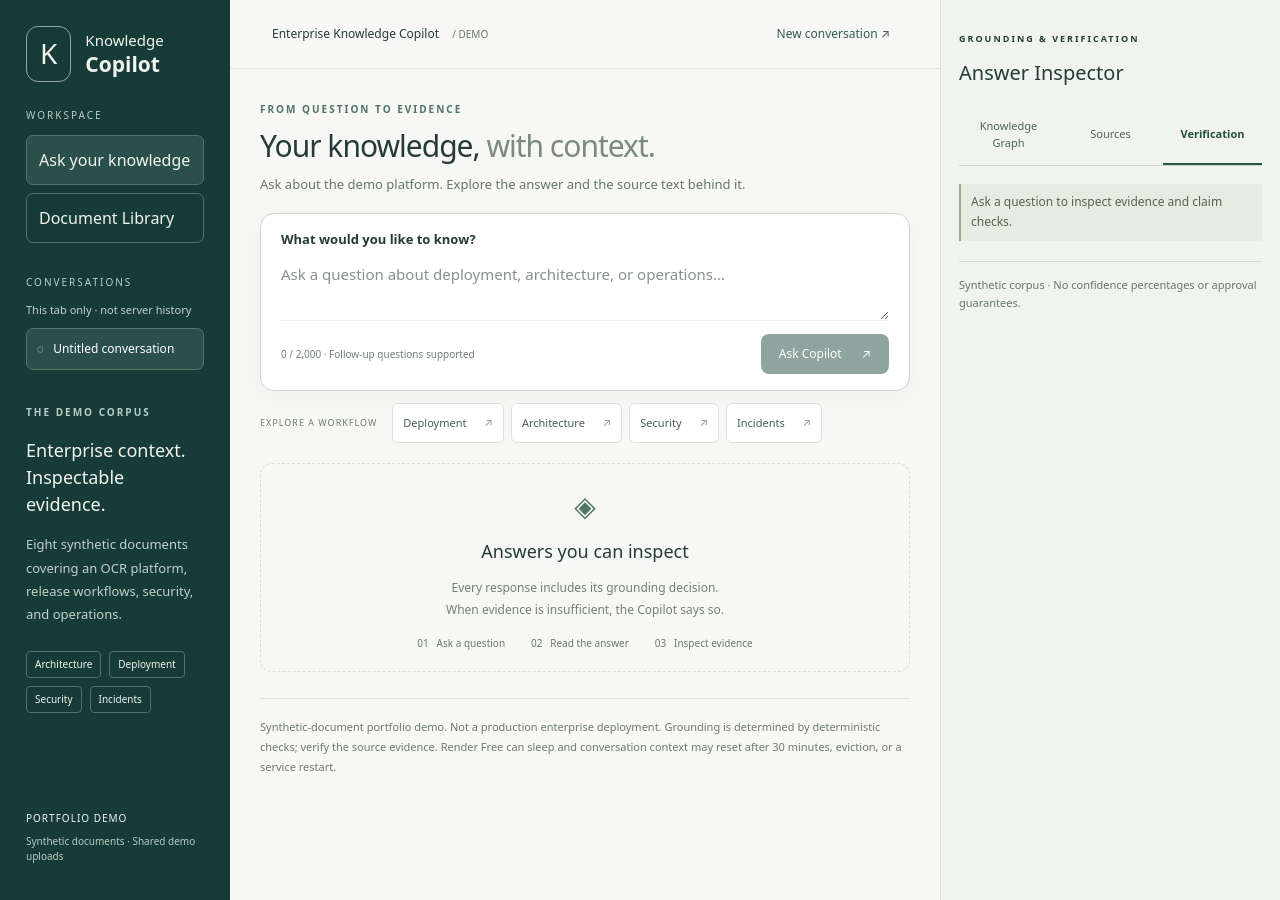
it: workspace › shows synthetic boundary and fills examples without inventing answers
Expected: the text "Synthetic-document portfolio demo" is shown, [260,719,902,774]
Click the button "Deployment ↗" at coordinates (448, 423), box [392,403,504,443]
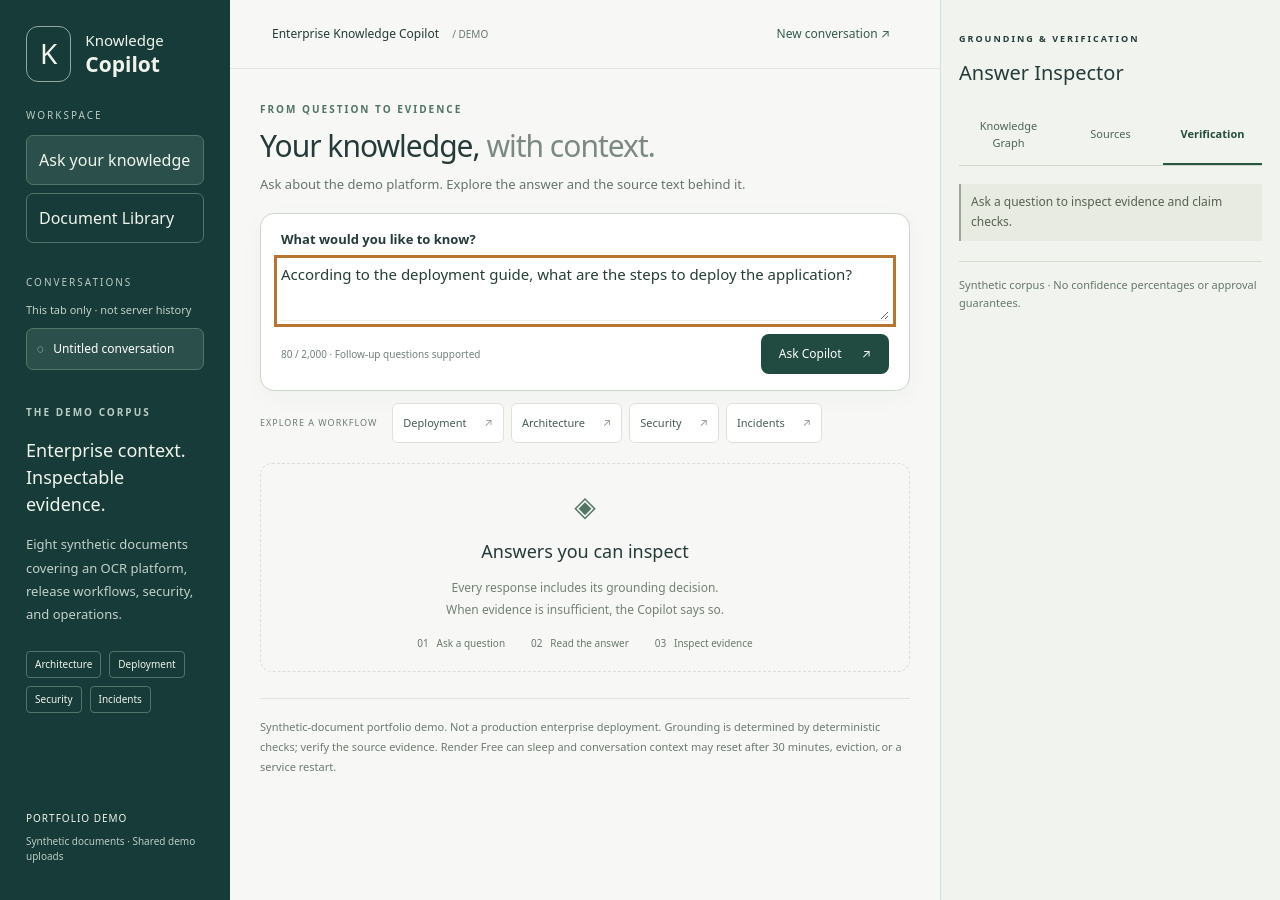
Expected: the text box labelled "What would you like to know?" holds "According to the deployment guide, what are the steps to deploy the application?", [281,262,889,320]
